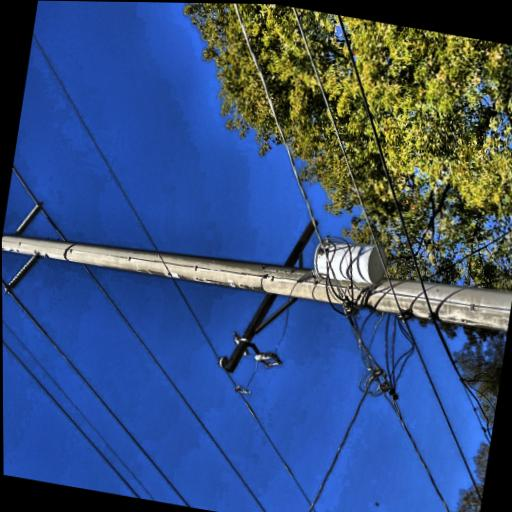insulator: (10, 336, 25, 352)
pole: (50, 5, 193, 495)
transformer: (84, 437, 133, 496)
